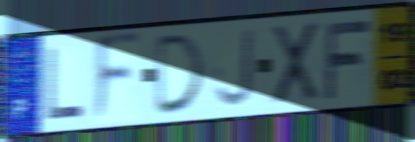D: (153, 31, 209, 118)
F: (91, 29, 144, 128), (323, 16, 374, 103)
J: (213, 26, 255, 111)
L: (45, 46, 86, 123)
X: (270, 19, 322, 108)
